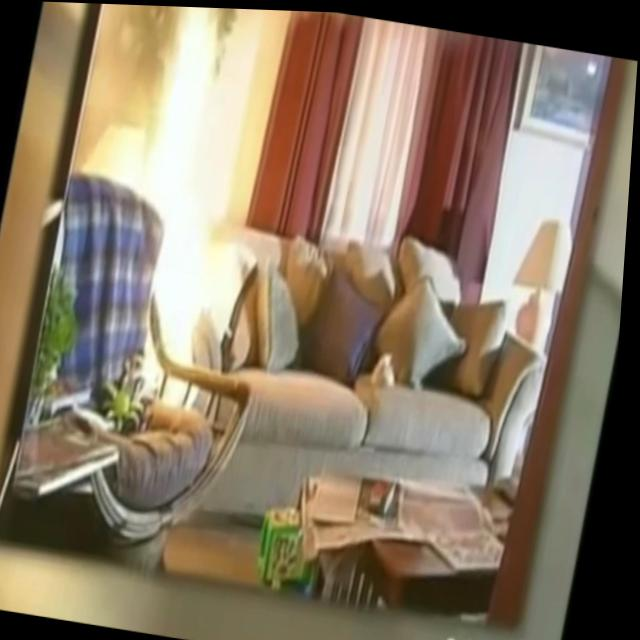fire: (99, 3, 275, 407)
